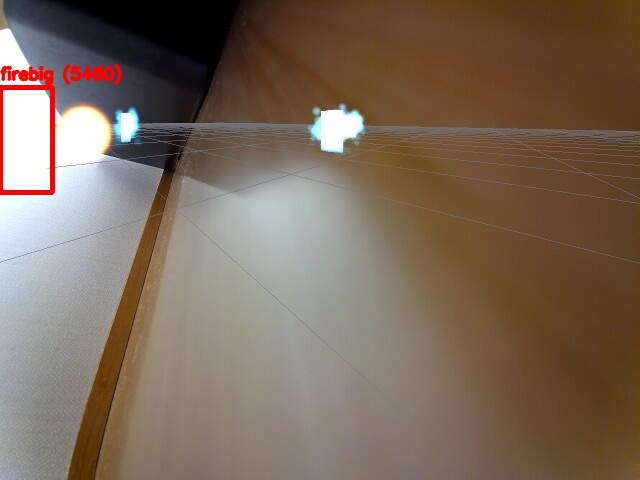firebig: (0, 87, 52, 192)
